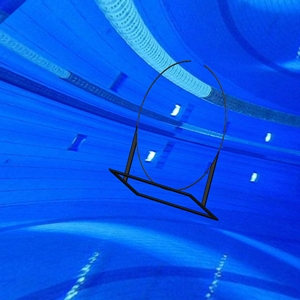circle: (109, 58, 228, 224)
